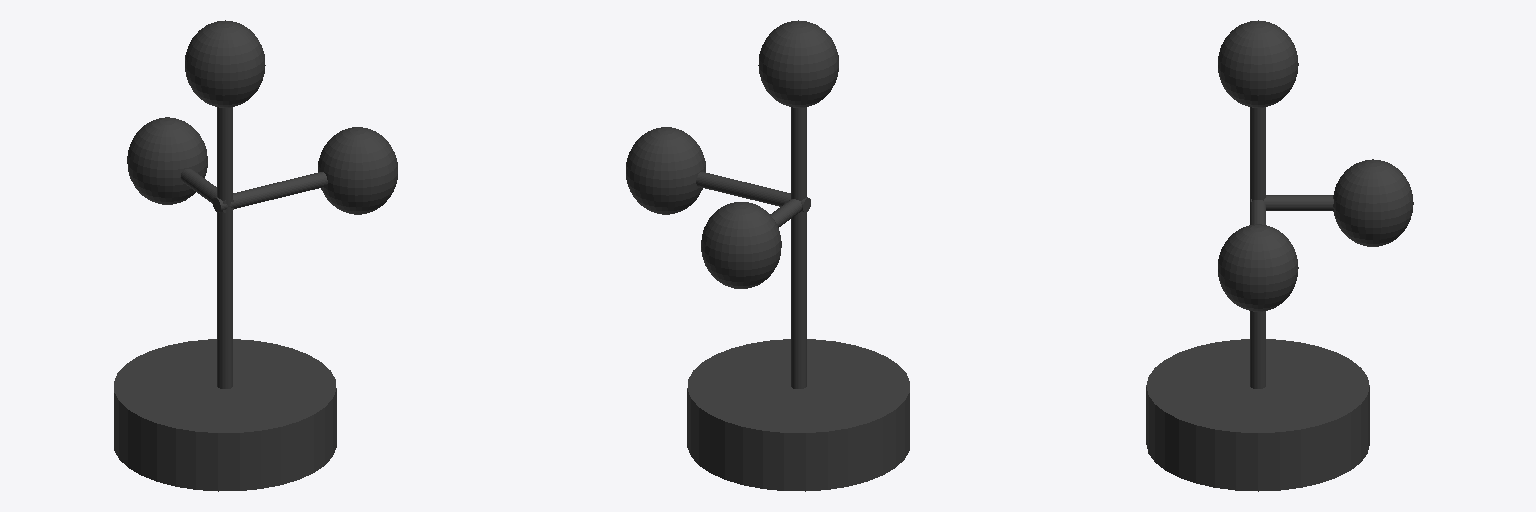
robot.urdf — turtlebot3_waffle:
<?xml version="1.0" ?>
<robot name="turtlebot3_waffle" xmlns:xacro="http://ros.org/wiki/xacro">
  <!-- <xacro:include filename="$(find turtlebot3_description)/urdf/common_properties.urdf"/>

  <xacro:property name="r200_cam_rgb_px" value="0.005"/>
  <xacro:property name="r200_cam_rgb_py" value="0.018"/>
  <xacro:property name="r200_cam_rgb_pz" value="0.013"/>
  <xacro:property name="r200_cam_depth_offset" value="0.01"/> -->

  <!-- Init colour -->
  <material name="black">
      <color rgba="0.0 0.0 0.0 1.0"/>
  </material>

  <material name="dark">
    <color rgba="0.3 0.3 0.3 1.0"/>
  </material>

  <material name="light_black">
    <color rgba="0.4 0.4 0.4 1.0"/>
  </material>

  <material name="blue">
    <color rgba="0.0 0.0 0.8 1.0"/>
  </material>

  <material name="green">
    <color rgba="0.0 0.8 0.0 1.0"/>
  </material>

  <material name="grey">
    <color rgba="0.5 0.5 0.5 1.0"/>
  </material>

  <material name="orange">
    <color rgba="1.0 0.4235 0.0392 1.0"/>
  </material>

  <material name="brown">
    <color rgba="0.8706 0.8118 0.7647 1.0"/>
  </material>

  <material name="red">
    <color rgba="0.8 0.0 0.0 1.0"/>
  </material>

  <material name="white">
    <color rgba="1.0 1.0 1.0 1.0"/>
  </material>

  <link name="base_footprint"/>

  <joint name="base_joint" type="fixed">
    <parent link="base_footprint"/>
    <child link="base_link" />
    <origin xyz="0 0 0.010" rpy="0 0 0"/>
  </joint>

  <link name="base_link">
    <visual>
      <origin xyz="-0.064 0 0.0" rpy="0 0 0"/>
      <geometry>
        <mesh filename="package://turtlebot3_gazebo/models/turtlebot3_common/meshes/waffle_base.dae" scale="0.001 0.001 0.001"/>
      </geometry>
      <material name="light_black"/>
    </visual>

    <collision>
      <origin xyz="-0.064 0 0.047" rpy="0 0 0"/>
      <geometry>
        <box size="0.266 0.266 0.094"/>
      </geometry>
    </collision>

    <inertial>
      <origin xyz="0 0 0" rpy="0 0 0"/>
      <mass value="1.3729096e+00"/>
      <inertia ixx="8.7002718e-03" ixy="-4.7576583e-05" ixz="1.1160499e-04"
               iyy="8.6195418e-03" iyz="-3.5422299e-06"
               izz="1.4612727e-02" />
    </inertial>
  </link>

  <joint name="wheel_left_joint" type="continuous">
    <parent link="base_link"/>
    <child link="wheel_left_link"/>
    <origin xyz="0.0 0.144 0.023" rpy="-1.57 0 0"/>
    <axis xyz="0 0 1"/>
  </joint>

  <link name="wheel_left_link">
    <visual>
      <origin xyz="0 0 0" rpy="1.57 0 0"/>
      <geometry>
        <mesh filename="package://turtlebot3_gazebo/models/turtlebot3_common/meshes/tire.dae" scale="0.001 0.001 0.001"/>
      </geometry>
      <material name="dark"/>
    </visual>

    <collision>
      <origin xyz="0 0 0" rpy="0 0 0"/>
      <geometry>
        <cylinder length="0.018" radius="0.033"/>
      </geometry>
    </collision>

    <inertial>
      <origin xyz="0 0 0" />
      <mass value="2.8498940e-02" />
      <inertia ixx="1.1175580e-05" ixy="-4.2369783e-11" ixz="-5.9381719e-09"
               iyy="1.1192413e-05" iyz="-1.4400107e-11"
               izz="2.0712558e-05" />
      </inertial>
  </link>

  <joint name="wheel_right_joint" type="continuous">
    <parent link="base_link"/>
    <child link="wheel_right_link"/>
    <origin xyz="0.0 -0.144 0.023" rpy="-1.57 0 0"/>
    <axis xyz="0 0 1"/>
  </joint>

  <link name="wheel_right_link">
    <visual>
      <origin xyz="0 0 0" rpy="1.57 0 0"/>
      <geometry>
        <mesh filename="package://turtlebot3_gazebo/models/turtlebot3_common/meshes/tire.dae" scale="0.001 0.001 0.001"/>
      </geometry>
      <material name="dark"/>
    </visual>

    <collision>
      <origin xyz="0 0 0" rpy="0 0 0"/>
      <geometry>
        <cylinder length="0.018" radius="0.033"/>
      </geometry>
    </collision>

    <inertial>
      <origin xyz="0 0 0" />
      <mass value="2.8498940e-02" />
      <inertia ixx="1.1175580e-05" ixy="-4.2369783e-11" ixz="-5.9381719e-09"
               iyy="1.1192413e-05" iyz="-1.4400107e-11"
               izz="2.0712558e-05" />
      </inertial>
  </link>

  <joint name="caster_back_right_joint" type="fixed">
    <parent link="base_link"/>
    <child link="caster_back_right_link"/>
    <origin xyz="-0.177 -0.064 -0.004" rpy="-1.57 0 0"/>
  </joint>

  <link name="caster_back_right_link">
    <collision>
      <origin xyz="0 0.001 0" rpy="0 0 0"/>
      <geometry>
        <box size="0.030 0.009 0.020"/>
      </geometry>
    </collision>

    <inertial>
      <origin xyz="0 0 0" />
      <mass value="0.005" />
      <inertia ixx="0.001" ixy="0.0" ixz="0.0"
               iyy="0.001" iyz="0.0"
               izz="0.001" />
    </inertial>
  </link>

  <joint name="caster_back_left_joint" type="fixed">
    <parent link="base_link"/>
    <child link="caster_back_left_link"/>
    <origin xyz="-0.177 0.064 -0.004" rpy="-1.57 0 0"/>
  </joint>

  <link name="caster_back_left_link">
    <collision>
      <origin xyz="0 0.001 0" rpy="0 0 0"/>
      <geometry>
        <box size="0.030 0.009 0.020"/>
      </geometry>
    </collision>

    <inertial>
      <origin xyz="0 0 0" />
      <mass value="0.005" />
      <inertia ixx="0.001" ixy="0.0" ixz="0.0"
               iyy="0.001" iyz="0.0"
               izz="0.001" />
    </inertial>
  </link>

  <joint name="imu_joint" type="fixed">
    <parent link="base_link"/>
    <child link="imu_link"/>
    <origin xyz="0.0 0 0.068" rpy="0 0 0"/>
  </joint>

  <link name="imu_link"/>

  <joint name="mocap_joint" type="fixed">
    <parent link="base_link"/>
    <child link="base_mocap"/>
    <origin xyz="-0.064 0 0.142" rpy="0 0 0"/>
  </joint>

  <link name="base_mocap">
    <visual>
      <origin xyz="0 0 0" rpy="0 0 0"/>
      <geometry>
        <mesh filename="package://gazebo_mocap_plugin/models/gazebo_mocap_plugin/meshes/rigid_body.dae" scale="0.001 0.001 0.001"/>
      </geometry>
      <material name="dark"/>
    </visual>

    <collision>
      <origin xyz="0.015 0 -0.0065" rpy="0 0 0"/>
      <geometry>
        <cylinder length="0.0315" radius="0.055"/>
      </geometry>
    </collision>

    <inertial>
      <mass value="0.114" />
      <origin xyz="0 0 0" />
      <inertia ixx="0.001" ixy="0.0" ixz="0.0"
               iyy="0.001" iyz="0.0"
               izz="0.001" />
    </inertial>
  </link>

  <joint name="scan_joint" type="fixed">
    <parent link="base_link"/>
    <child link="base_scan"/>
    <origin xyz="-0.064 0 0.122" rpy="0 0 0"/>
  </joint>

  <link name="base_scan">
    <visual>
      <origin xyz="0 0 0" rpy="0 0 0"/>
      <geometry>
        <mesh filename="package://turtlebot3_gazebo/models/turtlebot3_common/meshes/lds.dae" scale="0.001 0.001 0.001"/>
      </geometry>
      <material name="dark"/>
    </visual>

    <collision>
      <origin xyz="0.015 0 -0.0065" rpy="0 0 0"/>
      <geometry>
        <cylinder length="0.0315" radius="0.055"/>
      </geometry>
    </collision>

    <inertial>
      <mass value="0.114" />
      <origin xyz="0 0 0" />
      <inertia ixx="0.001" ixy="0.0" ixz="0.0"
               iyy="0.001" iyz="0.0"
               izz="0.001" />
    </inertial>
  </link>

  <joint name="camera_joint" type="fixed">
    <origin xyz="0.064 -0.065 0.094" rpy="0 0 0"/>
    <parent link="base_link"/>
    <child link="camera_link"/>
  </joint>

  <link name="camera_link">
    <visual>
     <origin xyz="0 0 0" rpy="1.57 0 1.57"/>
      <geometry>
        <mesh filename="package://turtlebot3_gazebo/models/turtlebot3_common/meshes/r200.dae" />
      </geometry>
    </visual>
    <collision>
      <origin xyz="0.003 0.065 0.007" rpy="0 0 0"/>
      <geometry>
        <box size="0.012 0.132 0.020"/>
      </geometry>
    </collision>

    <!-- This inertial field needs doesn't contain reliable data!! -->
<!--   <inertial>
      <mass value="0.564" />
      <origin xyz="0 0 0" />
      <inertia ixx="0.003881243" ixy="0.0" ixz="0.0"
               iyy="0.000498940" iyz="0.0"
               izz="0.003879257" />
    </inertial>-->
  </link>

  <joint name="camera_rgb_joint" type="fixed">
    <origin xyz="0.005 0.018 0.013" rpy="0 0 0"/>
    <!-- <origin xyz="${r200_cam_rgb_px} ${r200_cam_rgb_py} ${r200_cam_rgb_pz}" rpy="0 0 0"/> -->
    <parent link="camera_link"/>
    <child link="camera_rgb_frame"/>
  </joint>
  <link name="camera_rgb_frame"/>

  <joint name="camera_rgb_optical_joint" type="fixed">
    <origin xyz="0 0 0" rpy="-1.57 0 -1.57"/>
    <parent link="camera_rgb_frame"/>
    <child link="camera_rgb_optical_frame"/>
  </joint>
  <link name="camera_rgb_optical_frame"/>

  <joint name="camera_depth_joint" type="fixed">
    <origin xyz="0.005 0.028 0.013" rpy="-1.57 0 -1.57"/>
    <!-- <origin xyz="${r200_cam_rgb_px} ${r200_cam_rgb_py + r200_cam_depth_offset} ${r200_cam_rgb_pz}" rpy="0 0 0"/> -->
    <parent link="camera_link"/>
    <child link="camera_depth_frame"/>
  </joint>
  <link name="camera_depth_frame"/>

  <joint name="camera_depth_optical_joint" type="fixed">
    <origin xyz="0 0 0" rpy="0 0 0"/>
    <parent link="camera_depth_frame"/>
    <child link="camera_depth_optical_frame"/>
  </joint>
  <link name="camera_depth_optical_frame"/>

</robot>

--- Render facts (derived) ---
Views: 3 orthographic renders of the robot side by side, from view 1: azimuth 30°, elevation 25°; view 2: azimuth 150°, elevation 25°; view 3: azimuth 270°, elevation 25°.
Robot: turtlebot3_waffle — 14 links, 13 joints (2 continuous, 11 fixed); root link base_footprint; default pose: all joints at 0.
Links seen in each view (by area): view 1: base_mocap; view 2: base_mocap; view 3: base_mocap.
Boxes of the visible links, x1,y1,x2,y2 form: base_mocap: (114, 20, 397, 491); base_mocap: (626, 20, 909, 491); base_mocap: (1146, 20, 1413, 491).
Size in the robot's own frame: 0.0399 by 0.0349 by 0.0605 metres.
1 mesh visuals loaded from 5 distinct referenced files (1 Collada DAE); not drawn: 5 (reference not matched to a file when rendering).